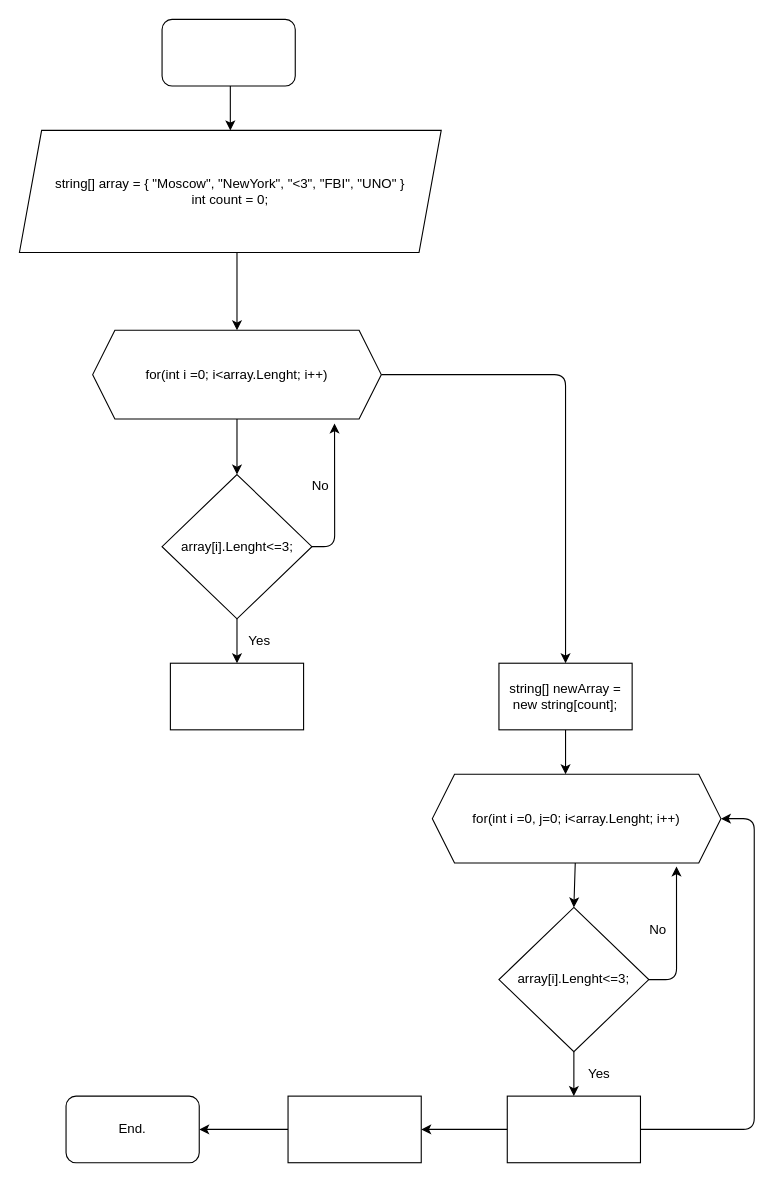
Image size: 783x1182. Some labels were removed from this diagram. The shapes that lost their labels are listed below. From the top down, each one's centre as x and y in pixels, then its label:
(x=228, y=52): Start
(x=236, y=696): count++;
(x=354, y=1129): return newArray;
(x=573, y=1129): newArray[j]=arrai[i]; j++;
